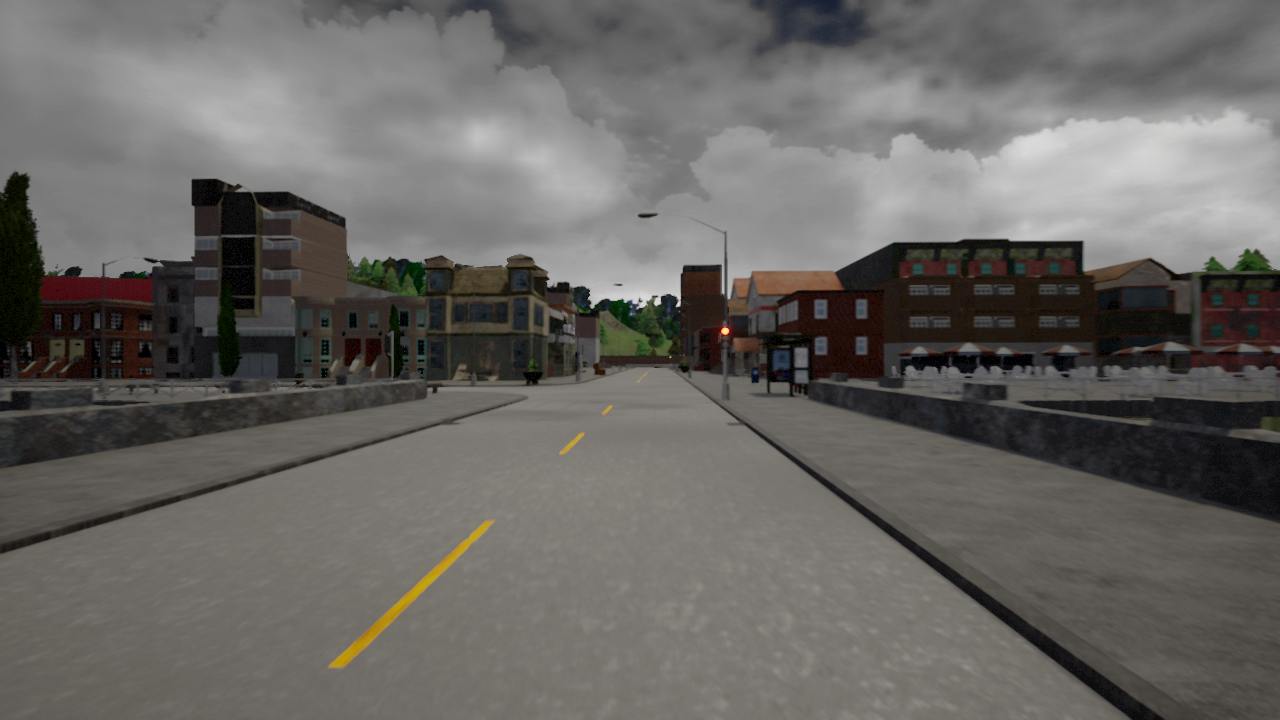red: (720, 324, 732, 351)
